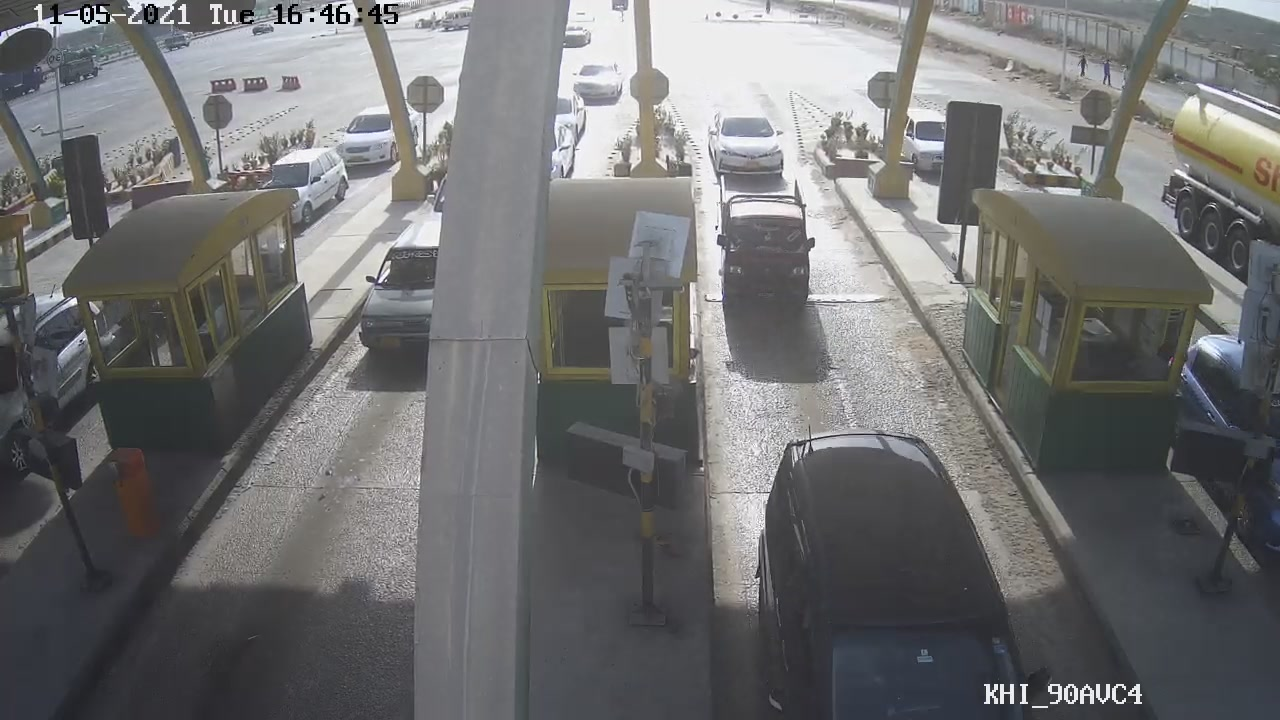F1: (711, 175, 824, 306)
